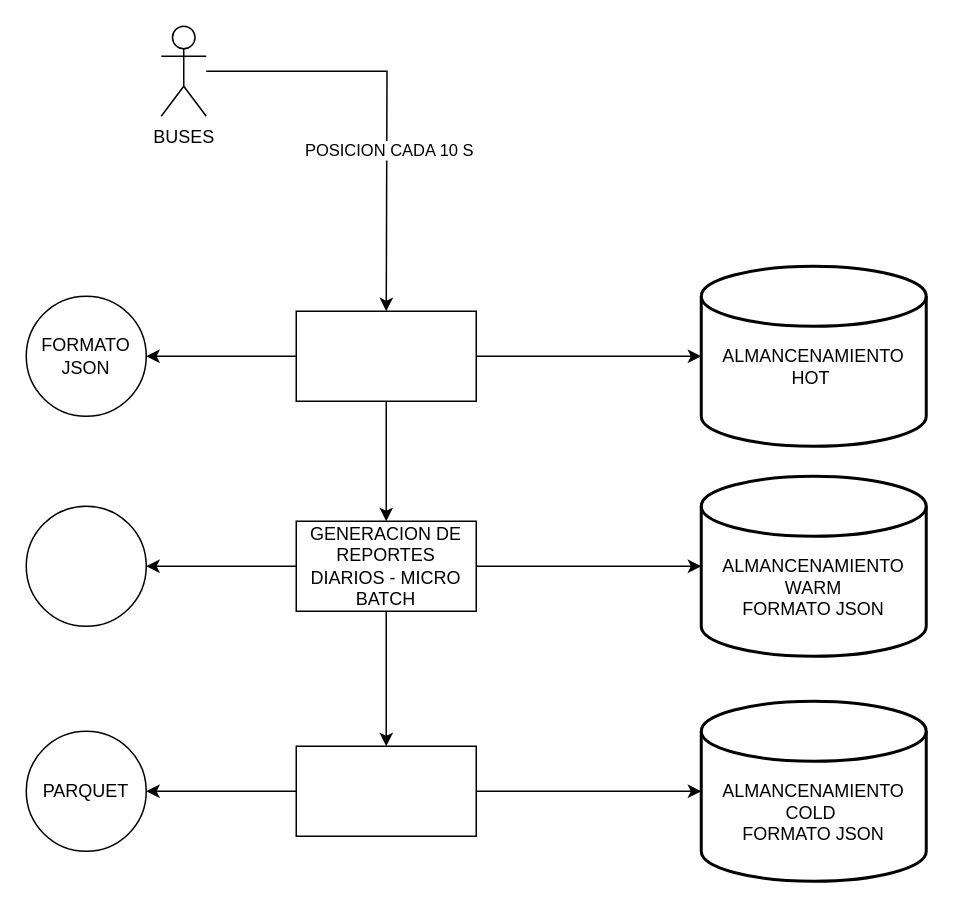
Some shapes in this 954 by 909 pixel diagram are drawn without their labels. The centre of each missing label's shape, as x and y in pixels:
"CSV" belongs at point (85, 565).
"GUARDO DE DATOS A FUTURO - BATCH" belongs at point (385, 790).
"INGESTA DE DATOS -STREAMING" belongs at point (385, 355).
